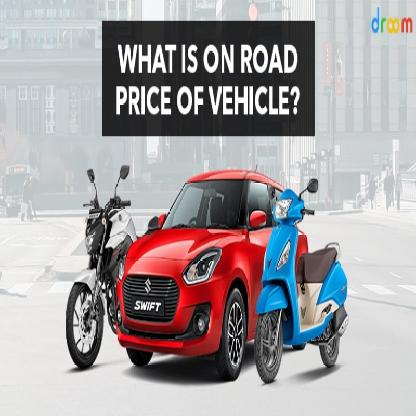bike: (259, 182, 342, 385), (67, 163, 122, 363)
car: (119, 169, 250, 373)
